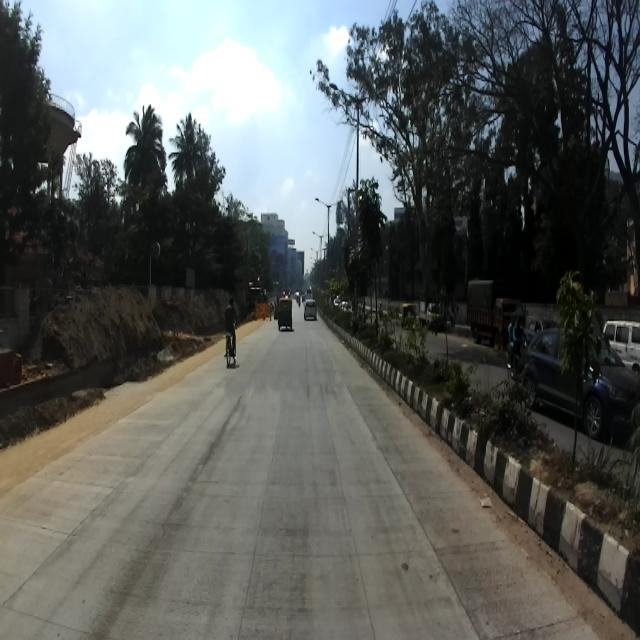bicycle ahead at: (224, 323, 239, 376)
